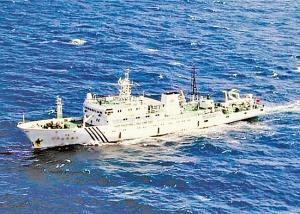warship: (16, 68, 273, 154)
